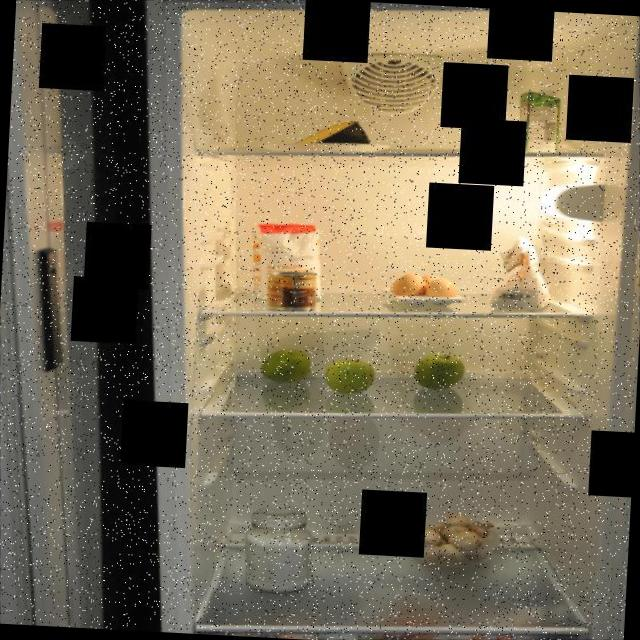Champiñones: (405, 507, 508, 573)
Huevos: (385, 268, 460, 308)
Manzana: (410, 348, 470, 396), (322, 352, 381, 399), (258, 342, 315, 390)
Queso: (292, 115, 374, 154)
corn: (266, 268, 320, 316)
flour: (484, 234, 560, 316)
heavy_cream: (512, 85, 567, 158)
sugar: (238, 498, 318, 598), (247, 218, 328, 305)
